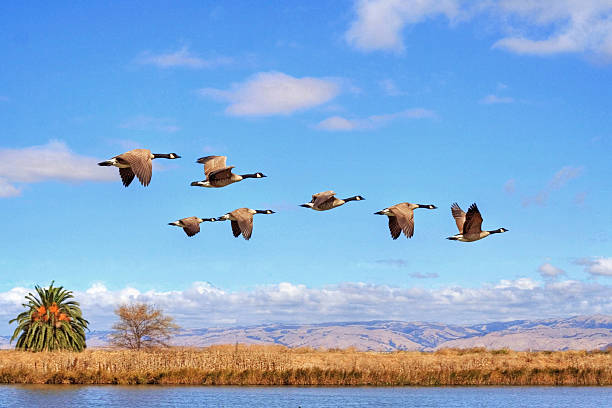goose: (94, 147, 183, 190), (187, 152, 268, 192), (445, 200, 510, 243), (373, 200, 439, 242), (294, 189, 365, 217), (222, 206, 275, 242), (165, 213, 217, 239)
